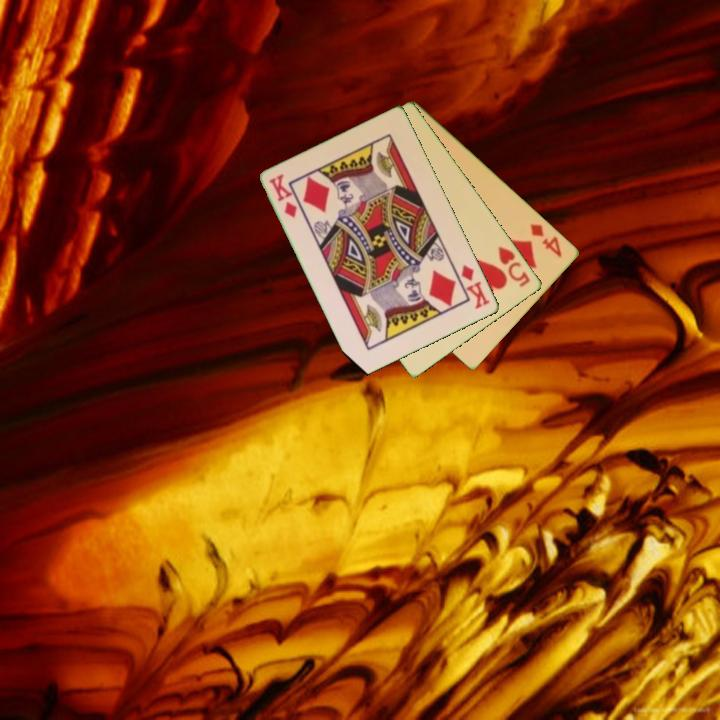4d: (526, 220, 565, 260)
5h: (495, 242, 534, 290)
Kd: (458, 261, 493, 312), (266, 171, 301, 221)
